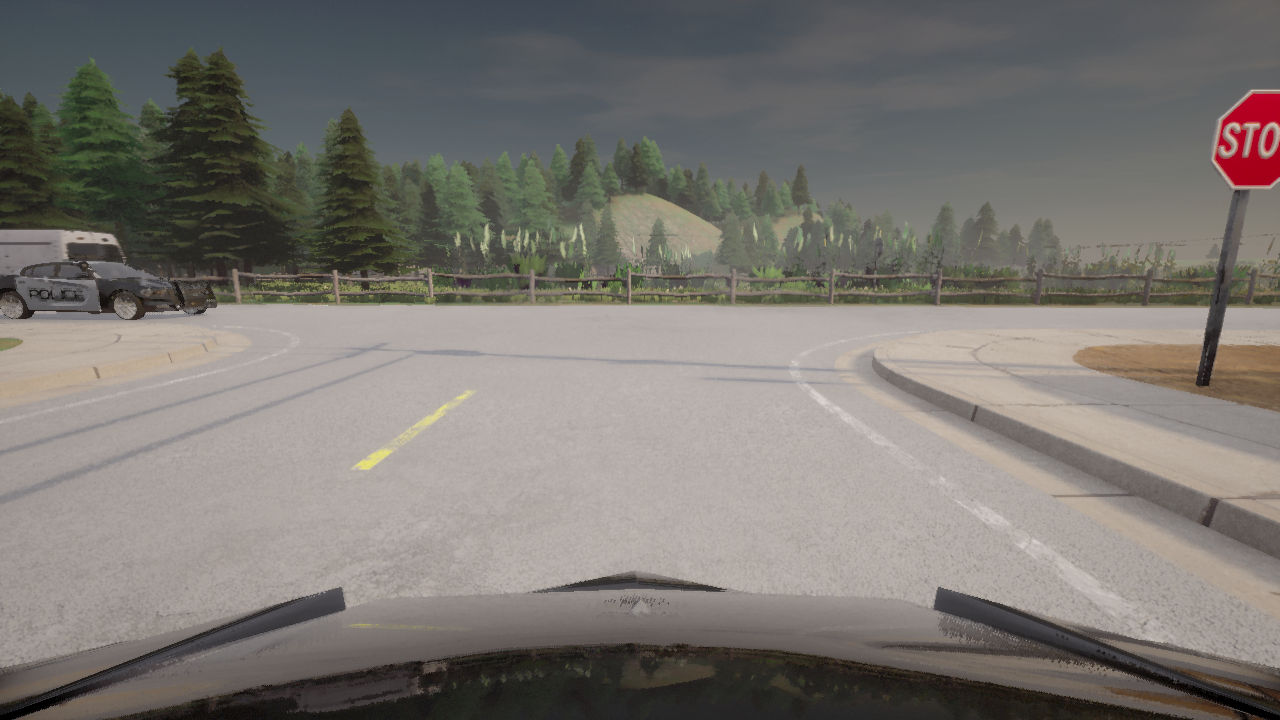cyclist: (0, 569, 1279, 719), (0, 254, 217, 320)
